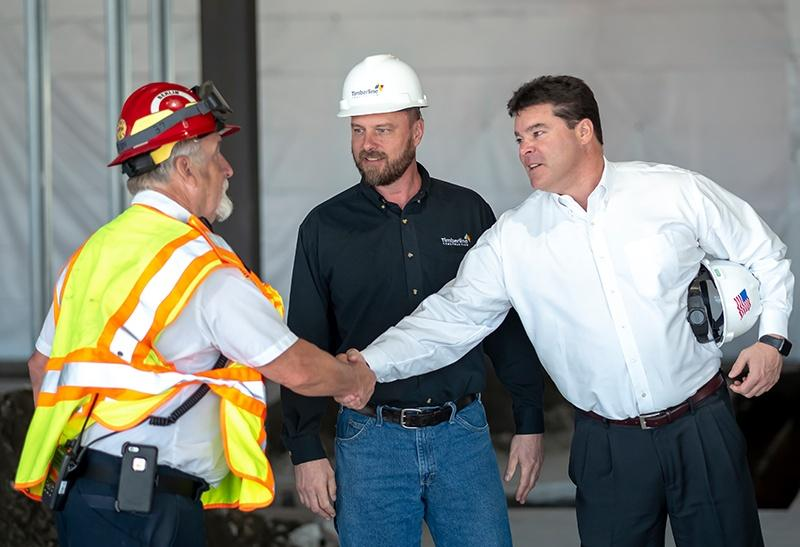helmet: (108, 79, 244, 170), (338, 54, 430, 120)
